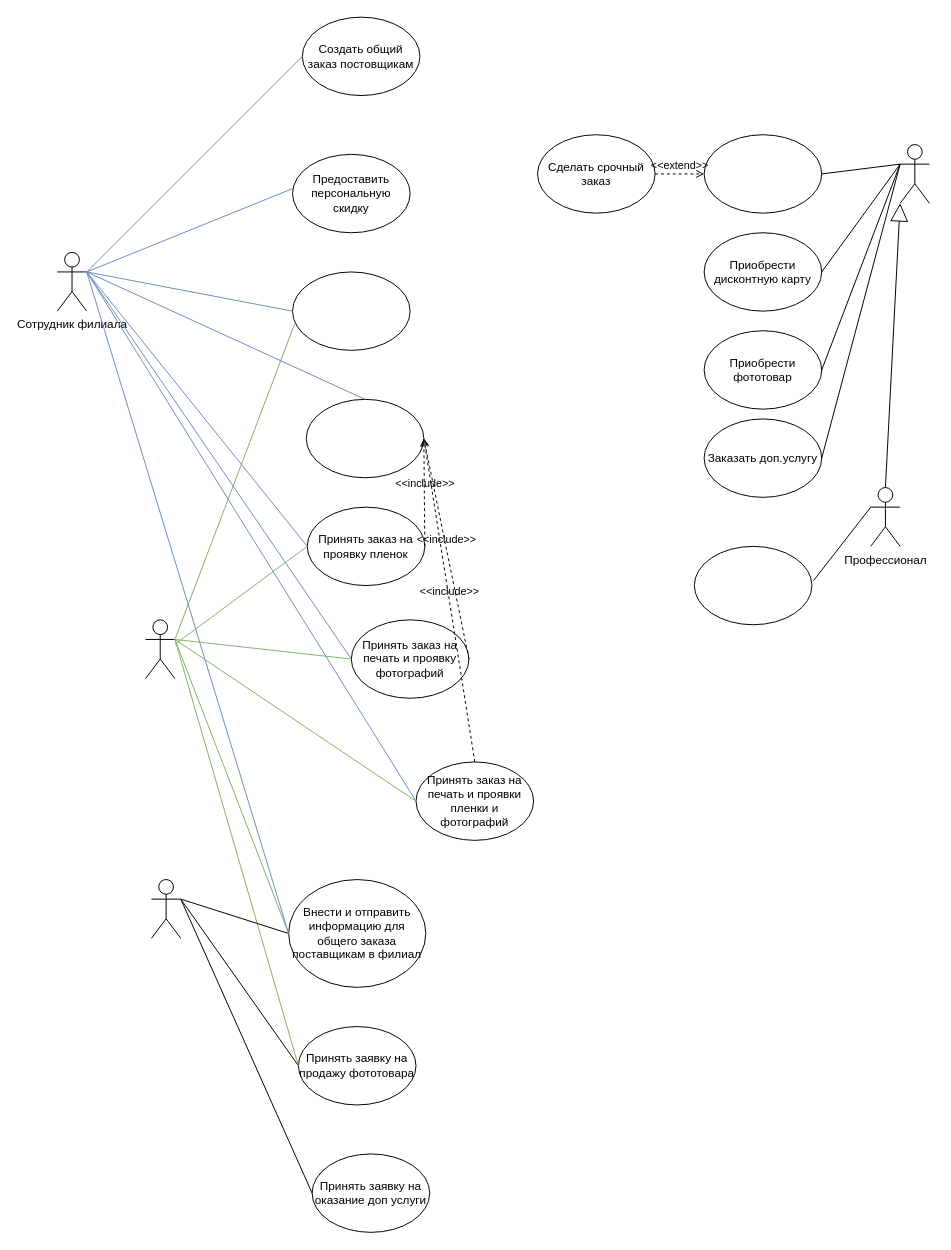
This 951x1250 diagram has some shape labels left out. Here are the shapes that lost their labels. From the top down, the box of each, then its label:
(703, 134, 822, 213): Сделать заказ
(899, 144, 930, 203): Клиент
(292, 271, 410, 350): Зарегистрировать дисконтную карту
(305, 398, 424, 478): Принять срочный заказ
(693, 545, 812, 625): Получить персональную скидку
(145, 619, 175, 679): Сотрудник киоска
(150, 879, 181, 938): Сотрудник фотомагазина
